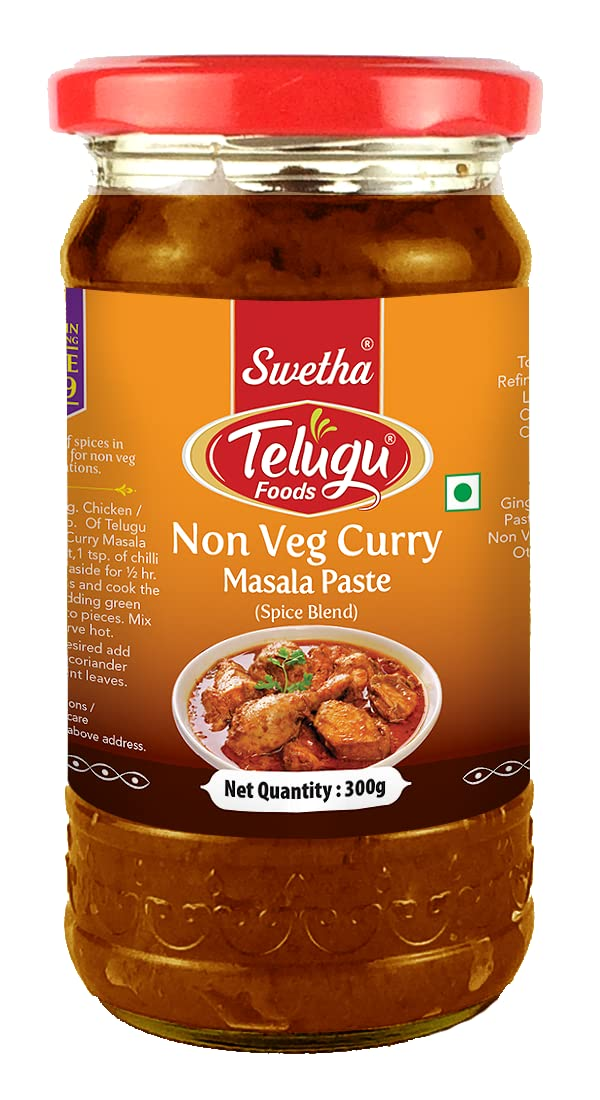veg: (447, 473, 481, 533)
